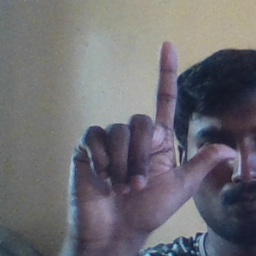L: (62, 40, 237, 233)
